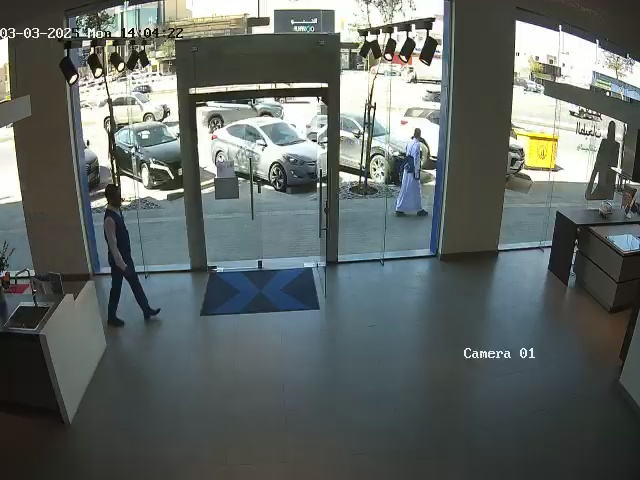employee: (103, 184, 161, 328)
male: (395, 129, 428, 217)
